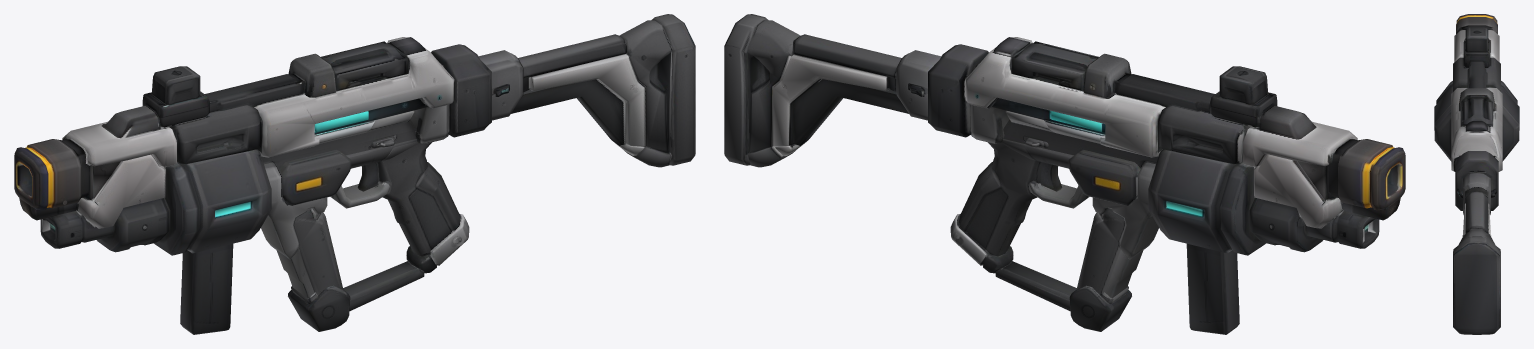
The model's file is futuristic_weapon_3d_model.fbx.
The picture shows the model from 3 angles, left to right: view 1: azimuth 30°, elevation 25°; view 2: azimuth 150°, elevation 25°; view 3: azimuth 270°, elevation 25°; orthographic projection. The views are drawn at different scales.
Parts seen in each view (by area): view 1: tripo_node_a3c6732e; view 2: tripo_node_a3c6732e; view 3: tripo_node_a3c6732e.
Part boxes in pixels (x1,y1,x2,y2): tripo_node_a3c6732e: [14, 14, 695, 334]; tripo_node_a3c6732e: [724, 14, 1405, 334]; tripo_node_a3c6732e: [1434, 14, 1519, 334].
Bounding box in the file's own units: 0.9995 × 0.4155 × 0.1665.
